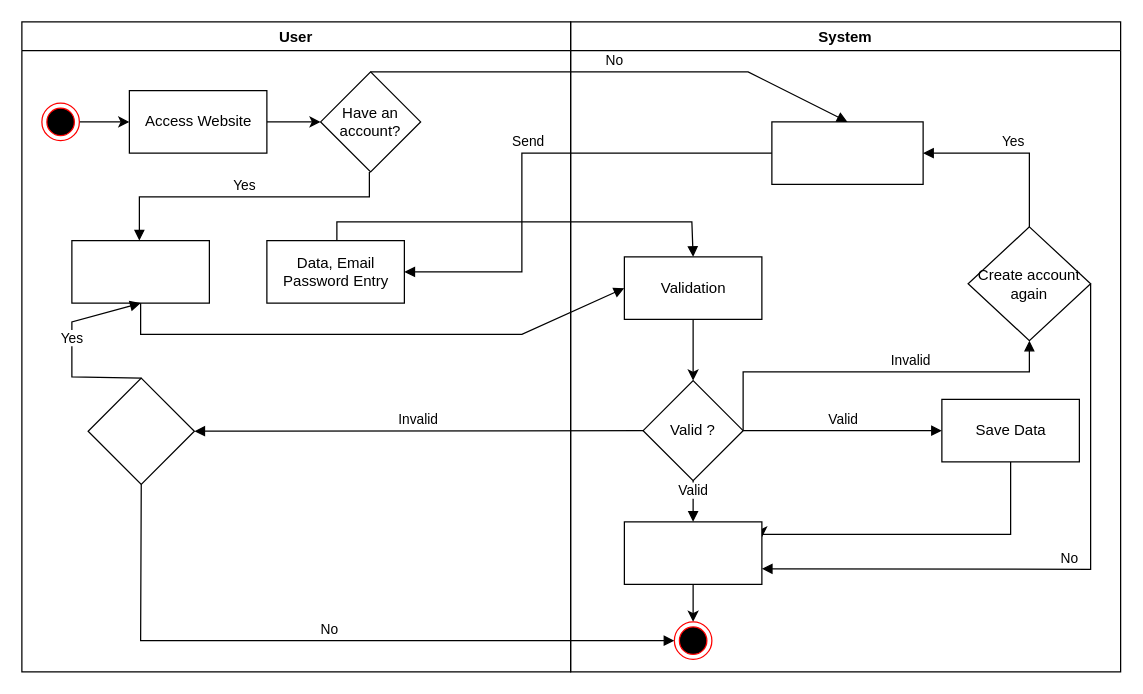
This 1143x694 diagram has some shape labels left out. Each missing label, with the centre of its shape:
Create Account Form: point (847, 152)
Email, Password Entry: point (140, 271)
Try enter email,password aggin: point (140, 430)
Website Display: point (692, 552)
